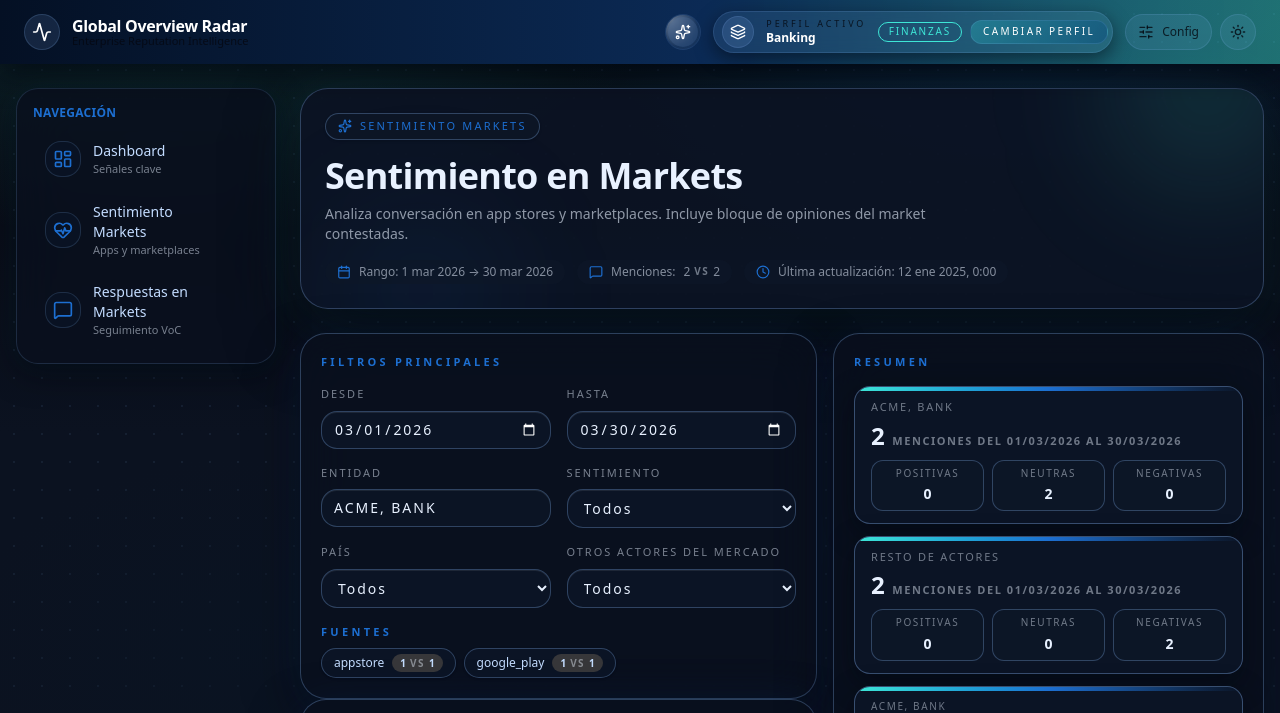
Scenario: Sentimiento page › keeps market legend totals aligned with source chips for selected actor comparisons
This screenshot has width=1280, height=713.
Step 1. Select "Beta Bank" in the dropdown labelled "Otros actores del mercado" → (681, 588), box [566,568,796,608]
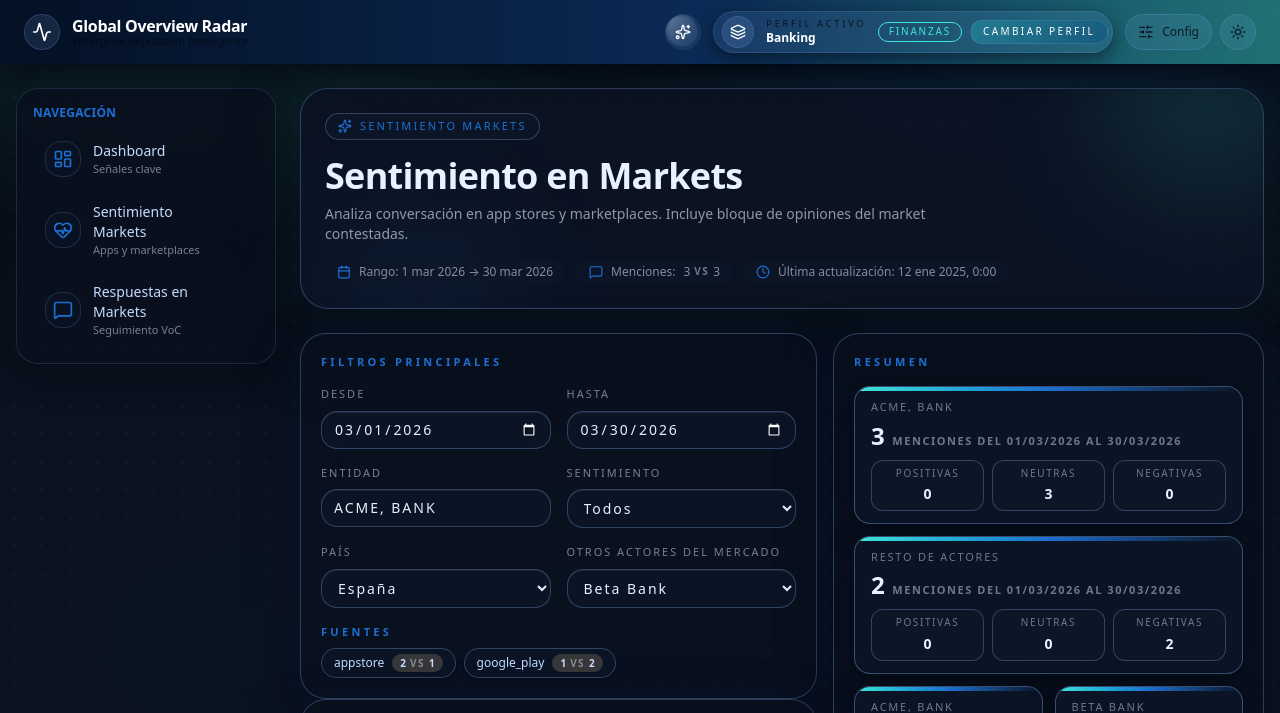
Expected: the button "appstore 2 vs 1" is shown, [321,648,456,678]
Expected: the button "google_play 1 vs 2" is shown, [464,648,616,678]
